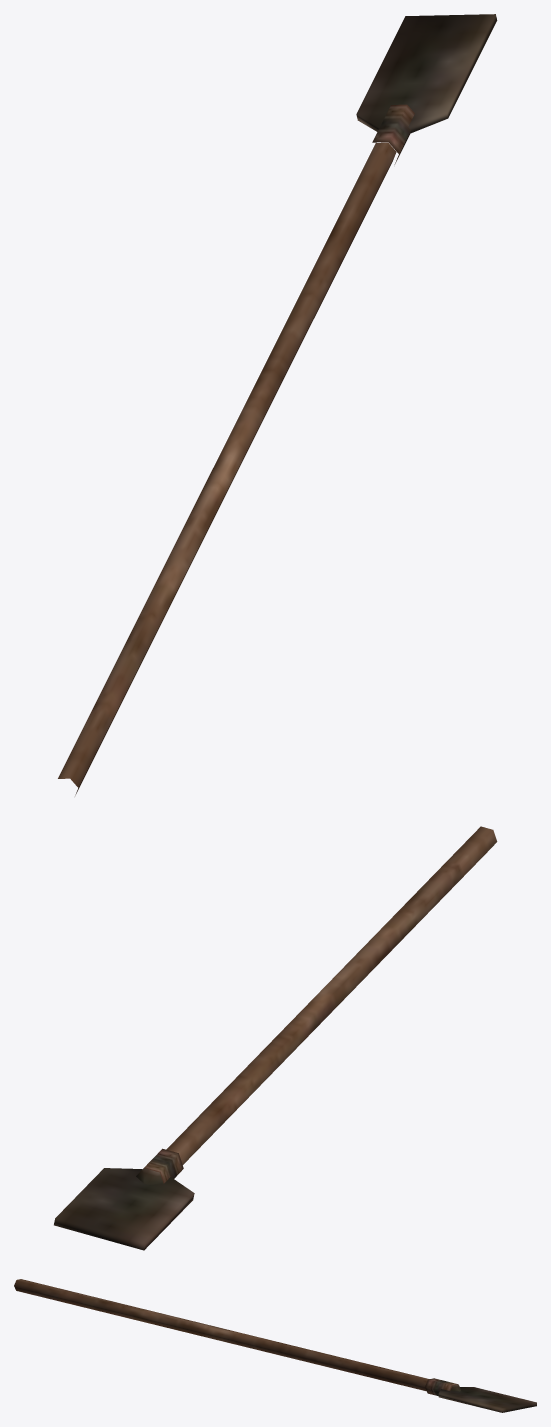
The model's file is O_mdl_env_propLargeShipOar-transformed.glb.
3 views of the same model, one above another, from view 1: azimuth 30°, elevation 25°; view 2: azimuth 210°, elevation 25°; view 3: azimuth 270°, elevation 25° (orthographic). The views are drawn at different scales.
Parts seen in each view (by area): view 1: default; view 2: default; view 3: default.
Part boxes in pixels (x1,y1,x2,y2): default: (58,14,497,795); default: (54,826,497,1250); default: (14,1279,536,1412).
Bounding box in the file's own units: 10.29 × 2.22 × 10.1.
1 material, 1 textured.
